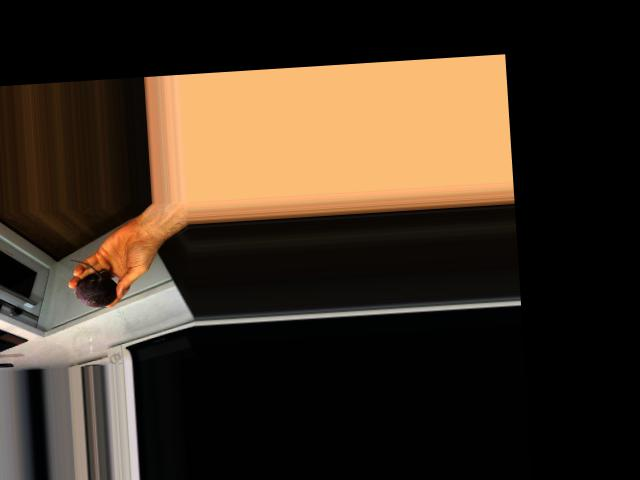beet: (69, 256, 117, 308)
